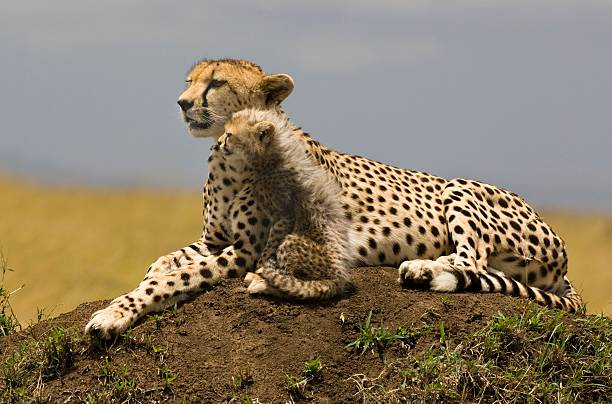cheetah: (163, 49, 298, 134)
